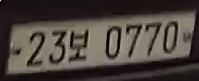0: (104, 24, 124, 61), (162, 20, 181, 54)
2: (26, 30, 46, 68)
3: (47, 28, 68, 65)
7: (123, 23, 144, 58), (143, 22, 161, 56)
보: (68, 28, 89, 64)
